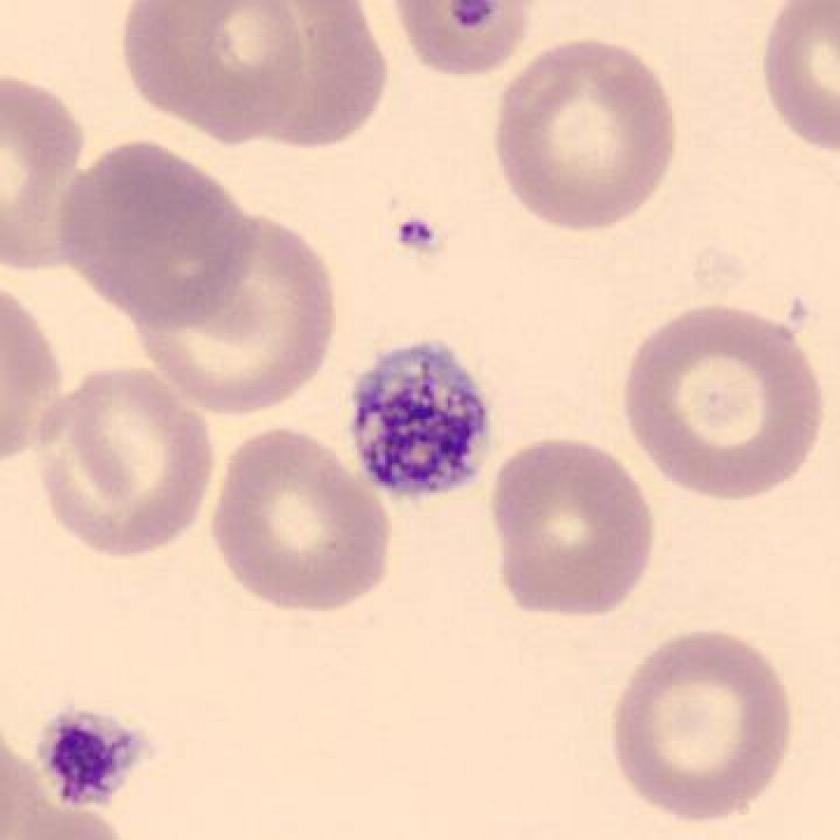platelets: (342, 332, 503, 515), (34, 697, 164, 818), (379, 205, 449, 272)
